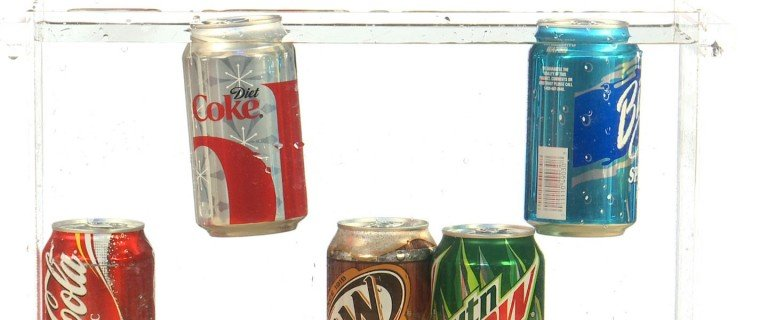can: (181, 15, 309, 238), (524, 16, 640, 239), (429, 220, 548, 320), (41, 217, 156, 320), (326, 217, 437, 320)
